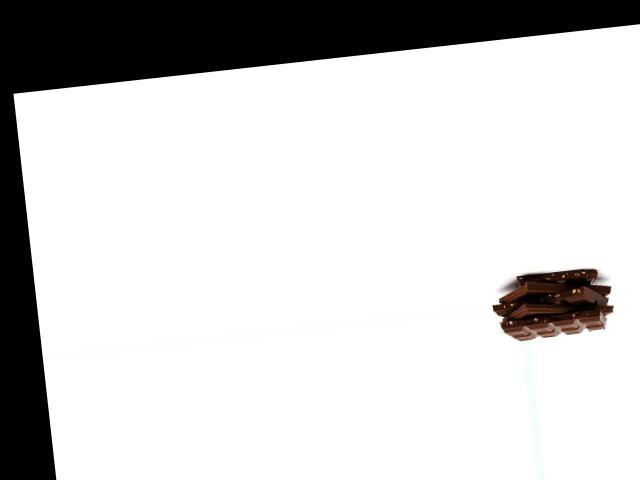chocolate: (496, 259, 610, 316)
